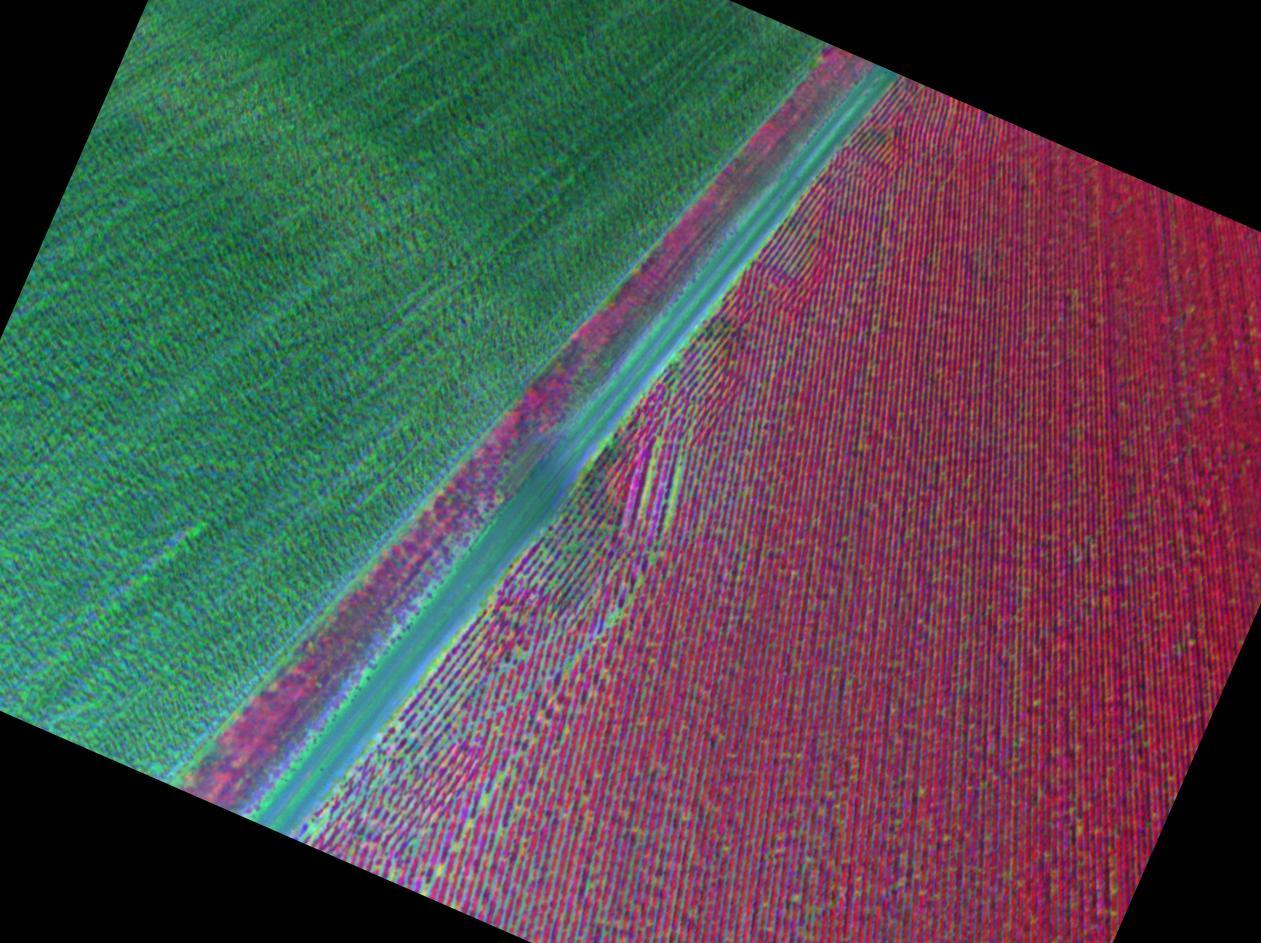dc: (467, 820, 471, 824), (872, 328, 876, 331), (677, 469, 681, 472), (650, 558, 654, 561), (607, 615, 611, 618), (453, 847, 456, 850), (499, 775, 502, 777), (484, 799, 486, 802)
